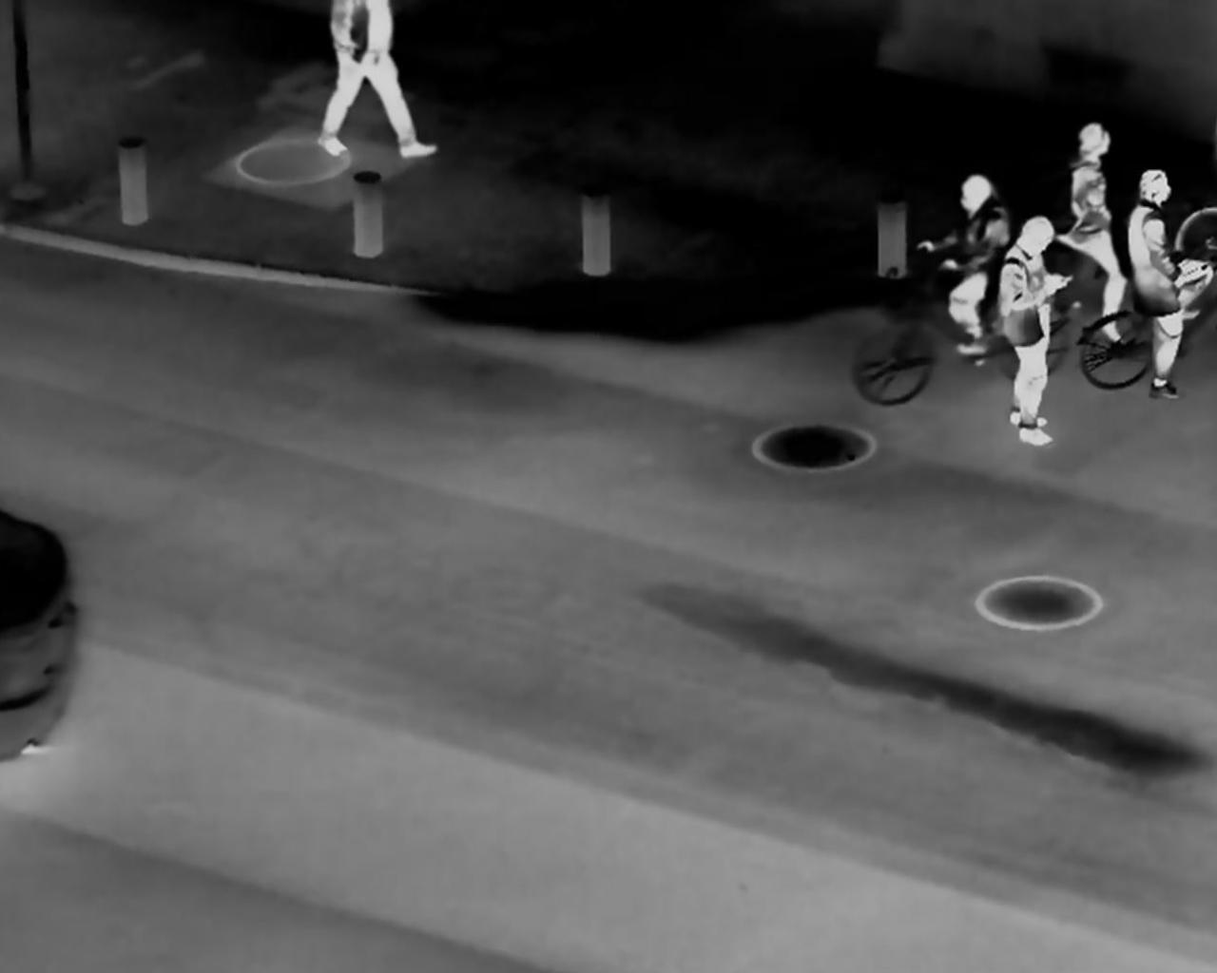person: (1130, 165, 1210, 414), (995, 208, 1068, 448), (1057, 109, 1122, 359), (923, 165, 1010, 351)
